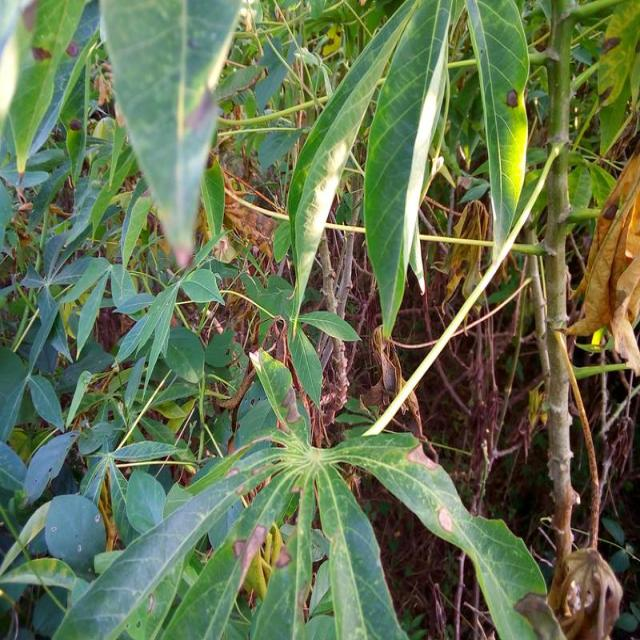cassava leaf: (99, 0, 243, 267), (364, 0, 454, 340), (466, 0, 532, 266)
